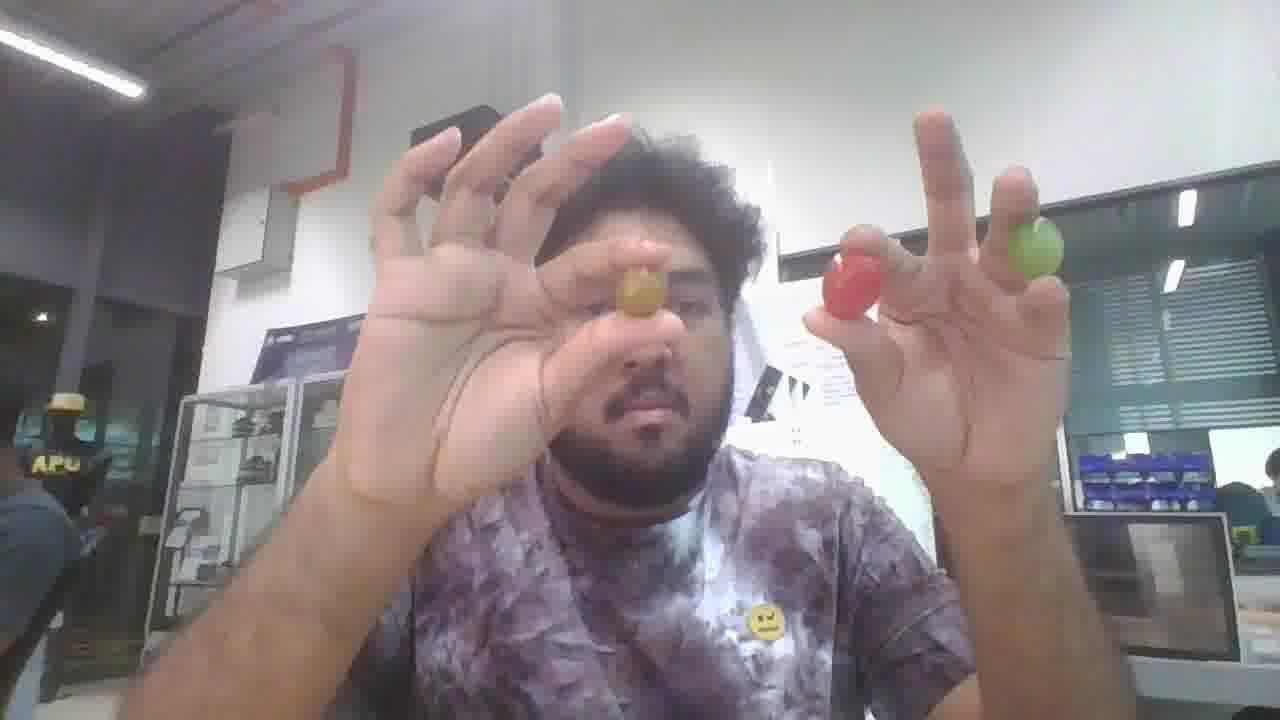green_cherry_tomato: (1009, 218, 1062, 279)
red_cherry_tomato: (822, 251, 883, 319)
yellow_cherry_tomato: (615, 269, 666, 316)
